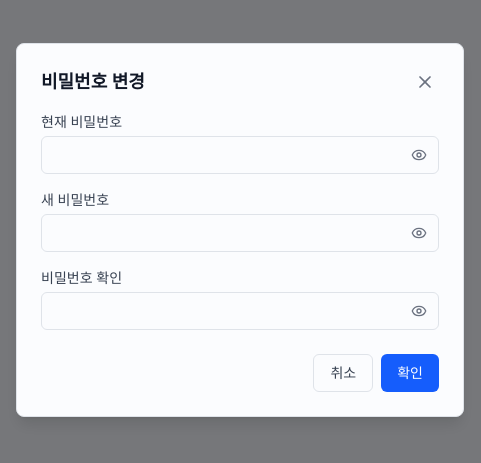
Test: ChangePasswordDialog 기존 검증 (회귀 방지) › 4자 미만이면 요청하지 않는다
This screenshot has width=481, height=463.
Type "old-password" into the password field labelled "현재 비밀번호" at (240, 155), box [41,136,439,174]
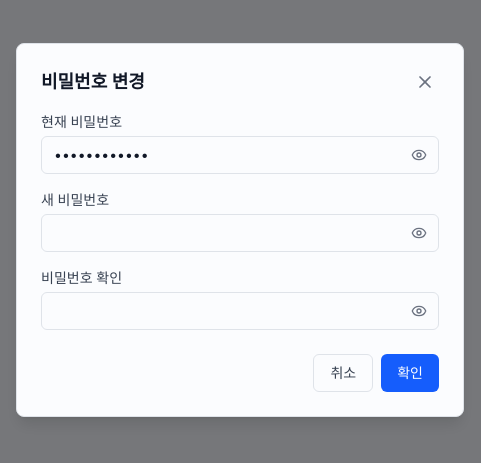
Type "abc" into the password field labelled "새 비밀번호" at (240, 233), box [41,214,439,252]
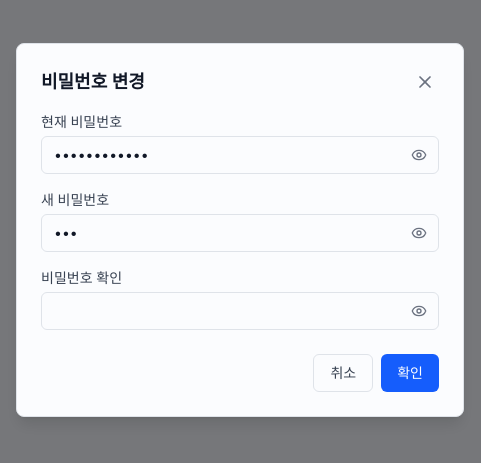
Type "abc" into the password field labelled "비밀번호 확인" at (240, 311), box [41,292,439,330]
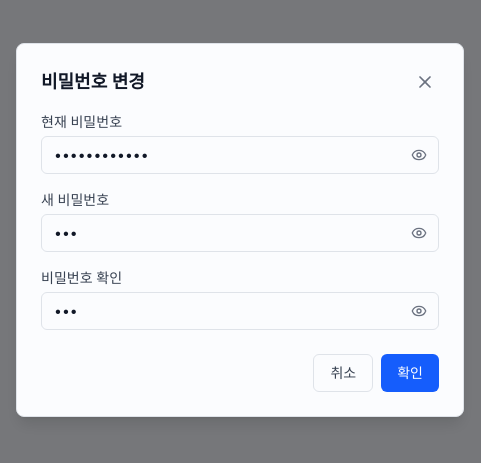
Click the button "확인" at (410, 373), box [381,354,439,392]
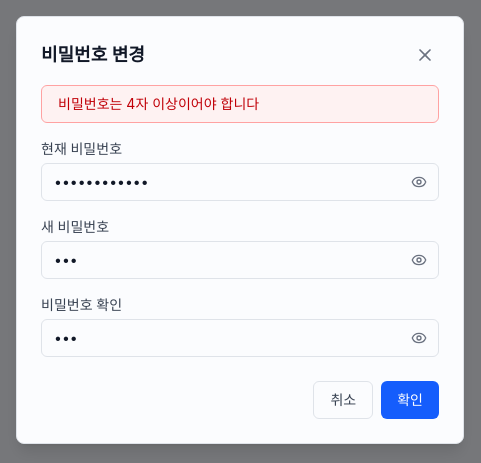
Now the message reads "비밀번호는 4자 이상이어야 합니다", box [58,95,259,112]
